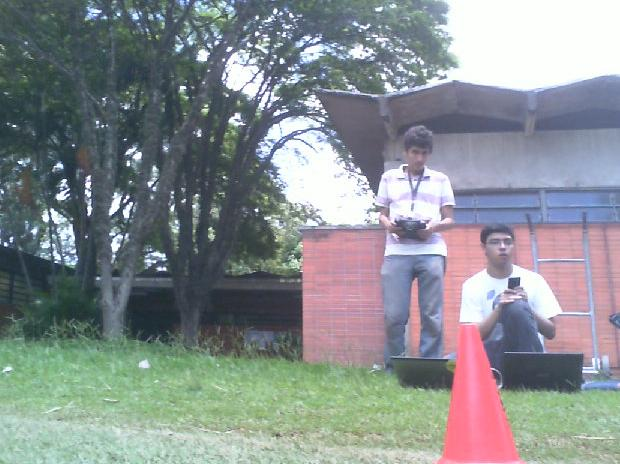0 cone: (436, 323, 533, 464)
